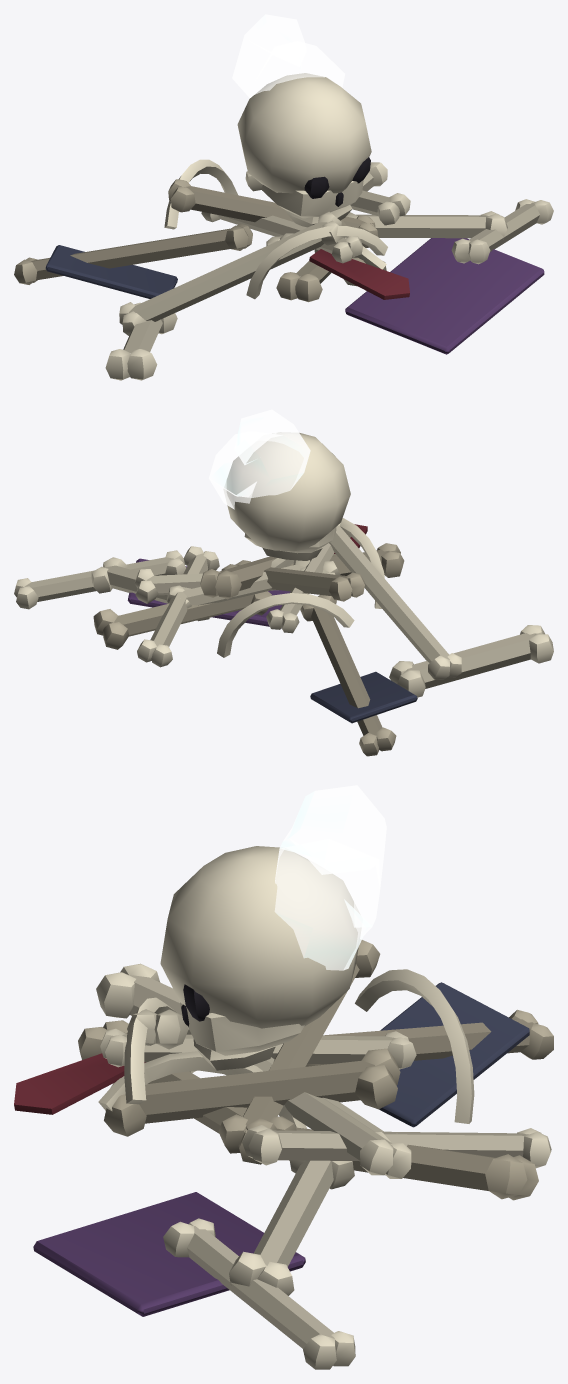
Rendered from item_bonepile.glb.
The picture shows the model from 3 angles, top to bottom: view 1: azimuth 30°, elevation 25°; view 2: azimuth 150°, elevation 25°; view 3: azimuth 270°, elevation 25°; orthographic projection. The views are drawn at different scales.
Visible parts, largest first — view 1: item_bonepile, glow; view 2: item_bonepile, glow; view 3: item_bonepile, glow.
Part boxes in pixels (left/top/right/bottom): item_bonepile: left=14, top=73, right=553, bottom=380; glow: left=232, top=14, right=344, bottom=97; item_bonepile: left=14, top=432, right=553, bottom=756; glow: left=209, top=409, right=310, bottom=509; item_bonepile: left=14, top=846, right=553, bottom=1369; glow: left=274, top=785, right=386, bottom=970.
Bounding box in the file's own units: 0.7429 × 0.391 × 0.4608.
